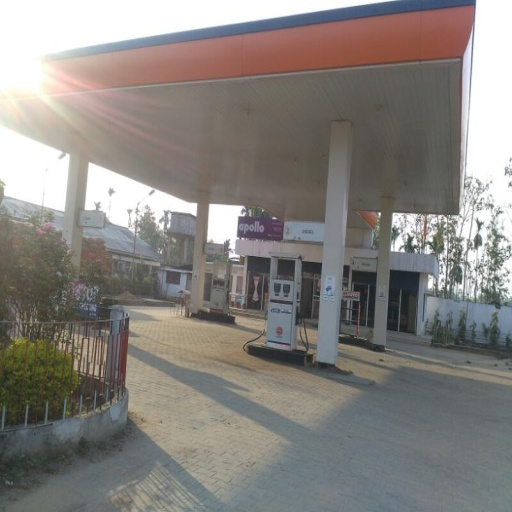roof: (1, 1, 462, 217)
